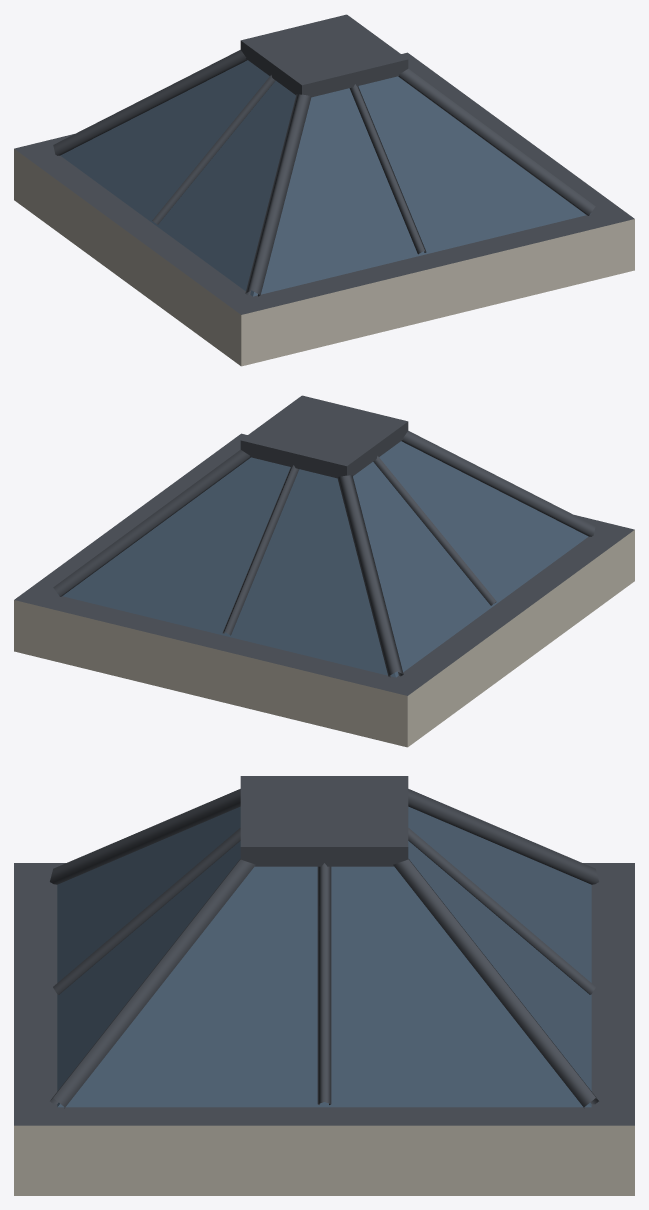
File: roof_skylight.glb
The picture shows the model from 3 angles, top to bottom: view 1: azimuth 30°, elevation 25°; view 2: azimuth 150°, elevation 25°; view 3: azimuth 270°, elevation 25°; orthographic projection. The views are drawn at different scales.
Visible parts, largest first — view 1: roof_skylight__mesh; view 2: roof_skylight__mesh; view 3: roof_skylight__mesh.
Boxes of the visible parts, x1=… form: roof_skylight__mesh: x1=14, y1=14, x2=634, y2=366; roof_skylight__mesh: x1=14, y1=395, x2=634, y2=747; roof_skylight__mesh: x1=14, y1=776, x2=634, y2=1195.
Bounding box in the file's own units: 2 × 0.9 × 2.
2 materials, 1 textured.
